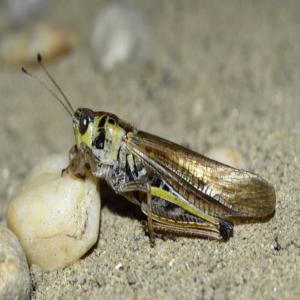locust: (39, 74, 281, 248)
